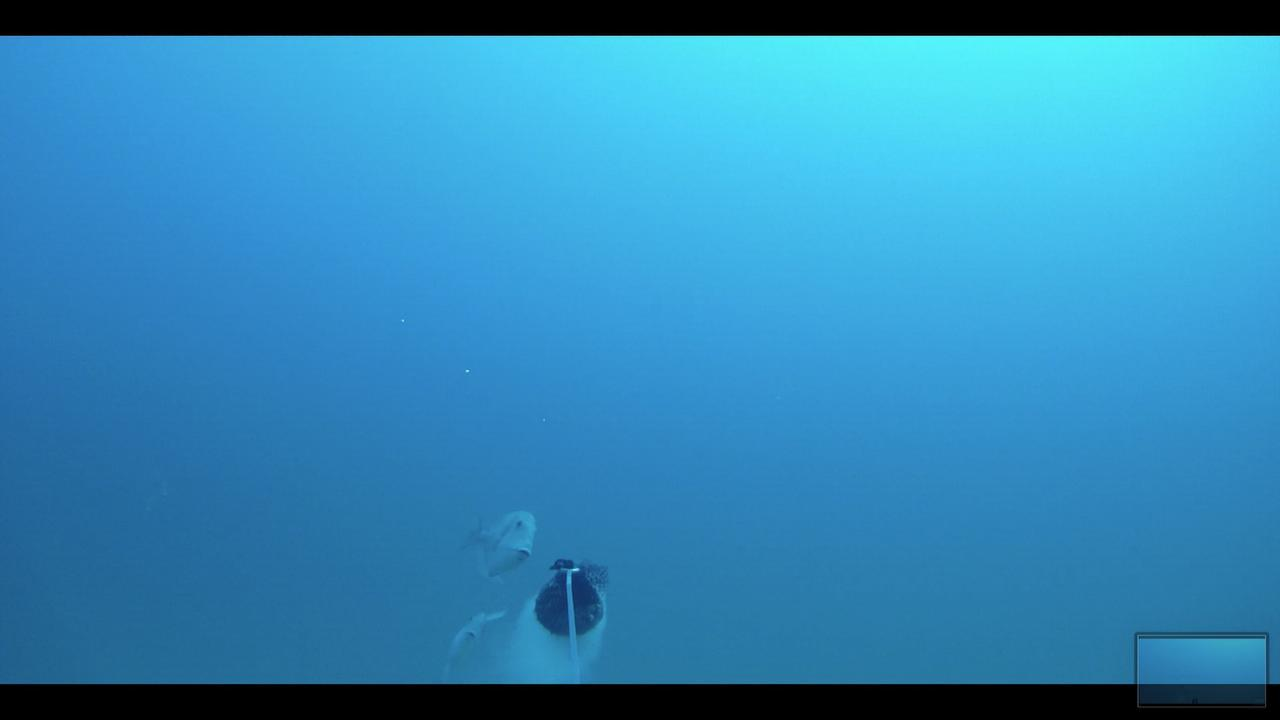balistes: (457, 496, 538, 584), (432, 598, 508, 680)
